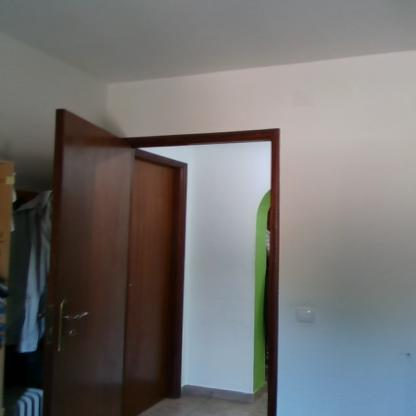closed: (124, 155, 207, 411)
open: (46, 104, 292, 415)
